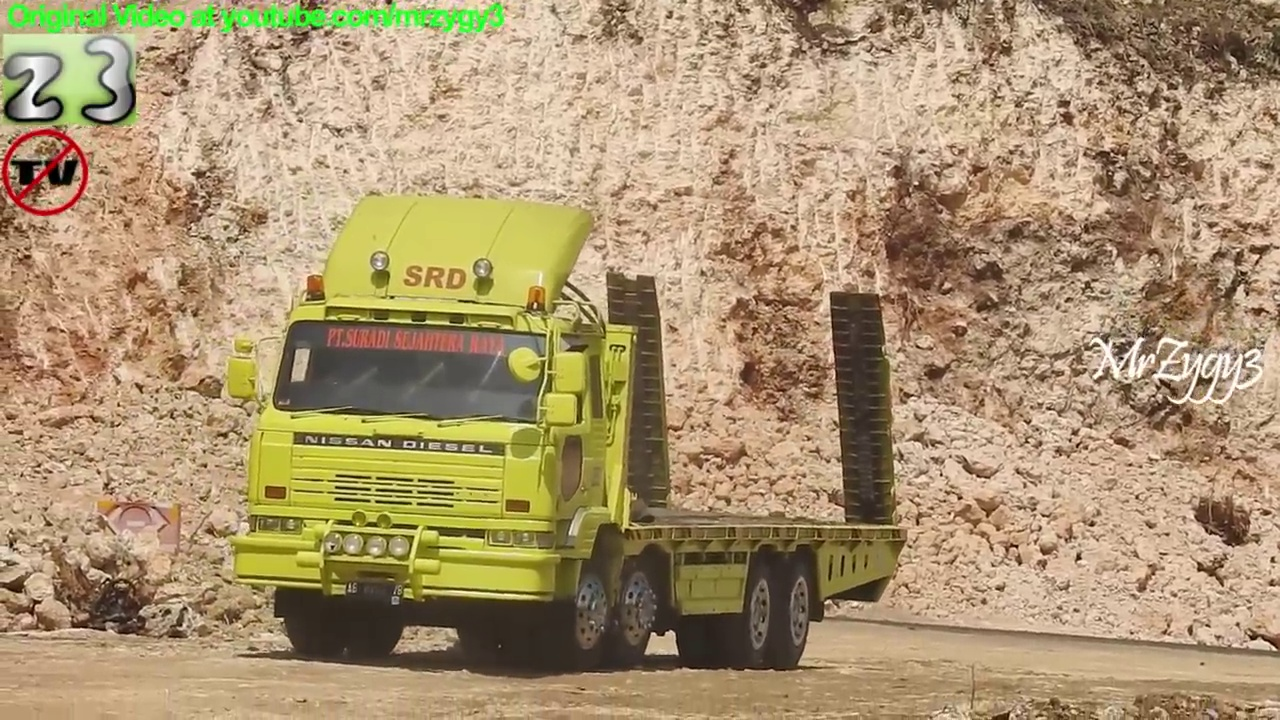truck: (220, 188, 919, 674)
